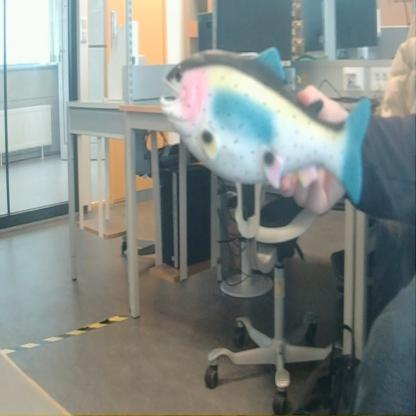rubberfish: (151, 38, 374, 209)
